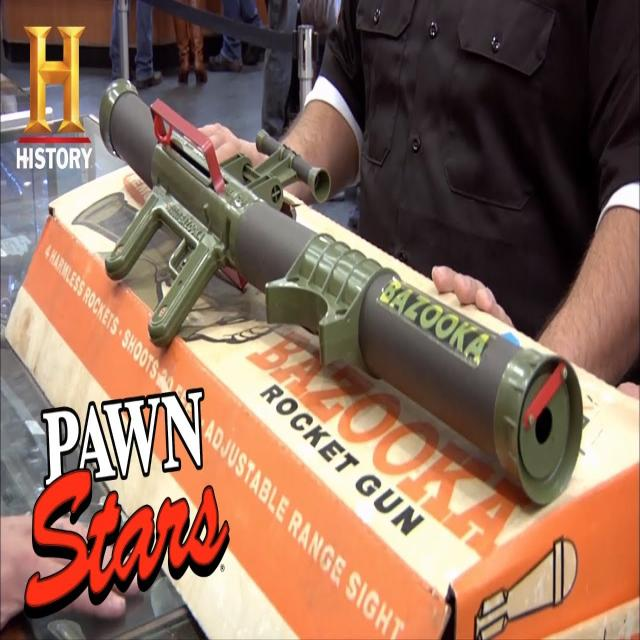bazooka: (95, 48, 591, 512)
